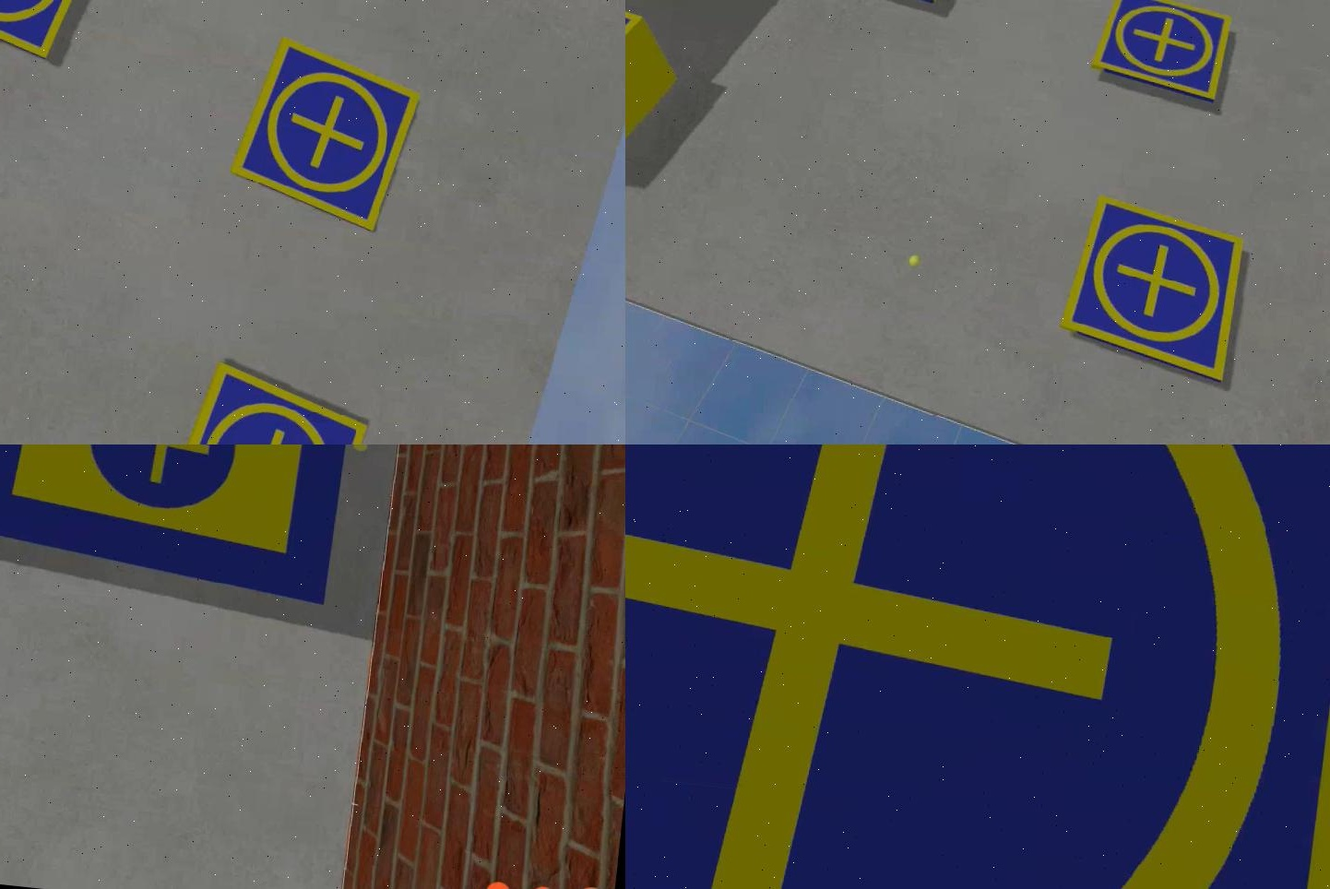large_base: (624, 445, 1328, 889), (0, 445, 368, 610)
small_base: (226, 36, 421, 236), (1058, 196, 1249, 387), (156, 356, 368, 445), (1086, 1, 1234, 104)
